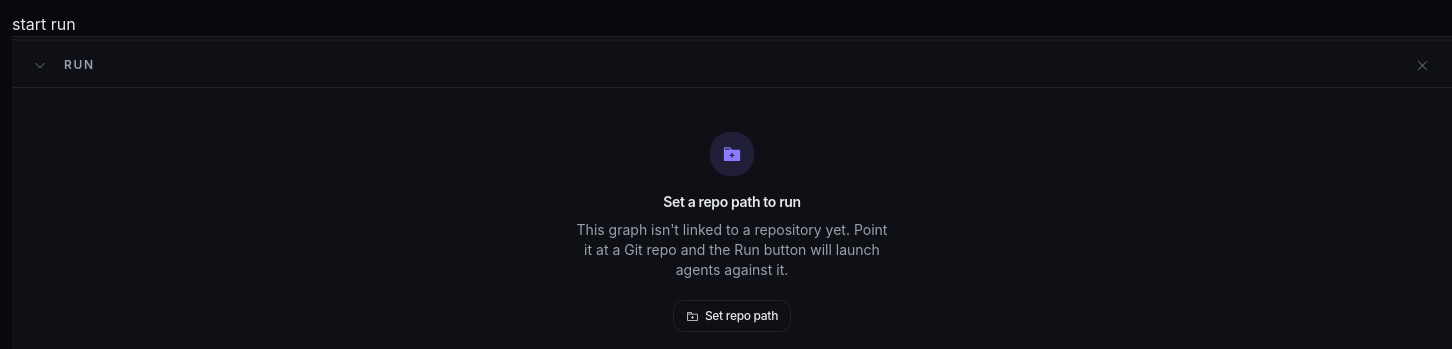
Test case: RunDrawer — collapse/expand › collapse hides the body and toggles aria-expanded
expect the heading "Set a repo path to run" is shown: met, box left=663, top=192, right=801, bottom=212
Click the button named "collapse run drawer".
click(40, 65)  # box left=28, top=53, right=52, bottom=77
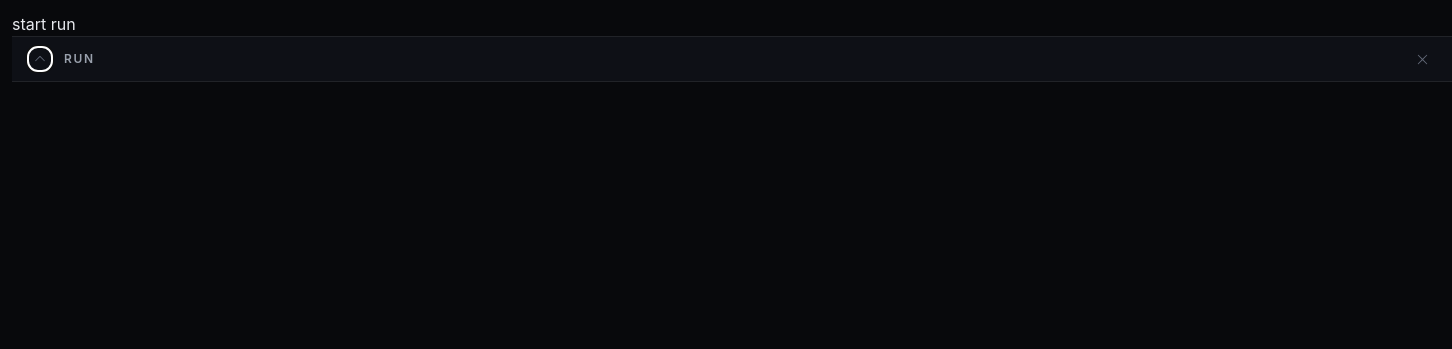
expect the button named "expand run drawer" is collapsed: met, box left=28, top=47, right=52, bottom=71
expect the heading "Set a repo path to run" is gone: met
